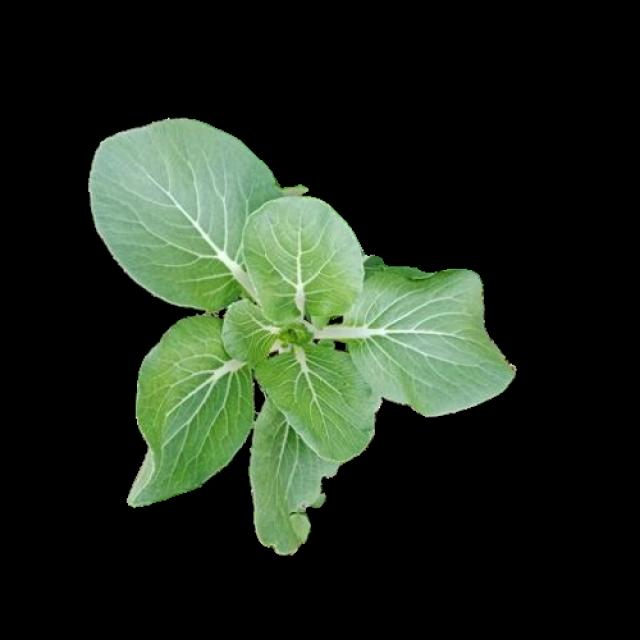not-mature: (92, 119, 515, 561)
unhealthy: (237, 404, 333, 552)
